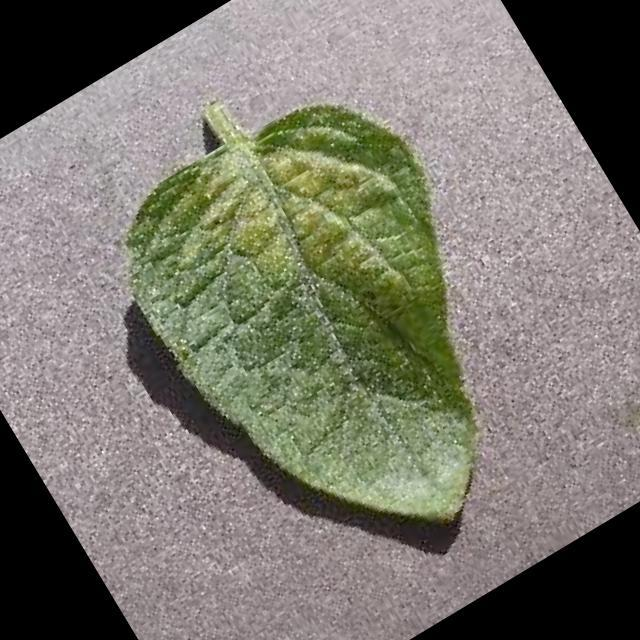Tomato spider mites leaf: (90, 64, 584, 604)
